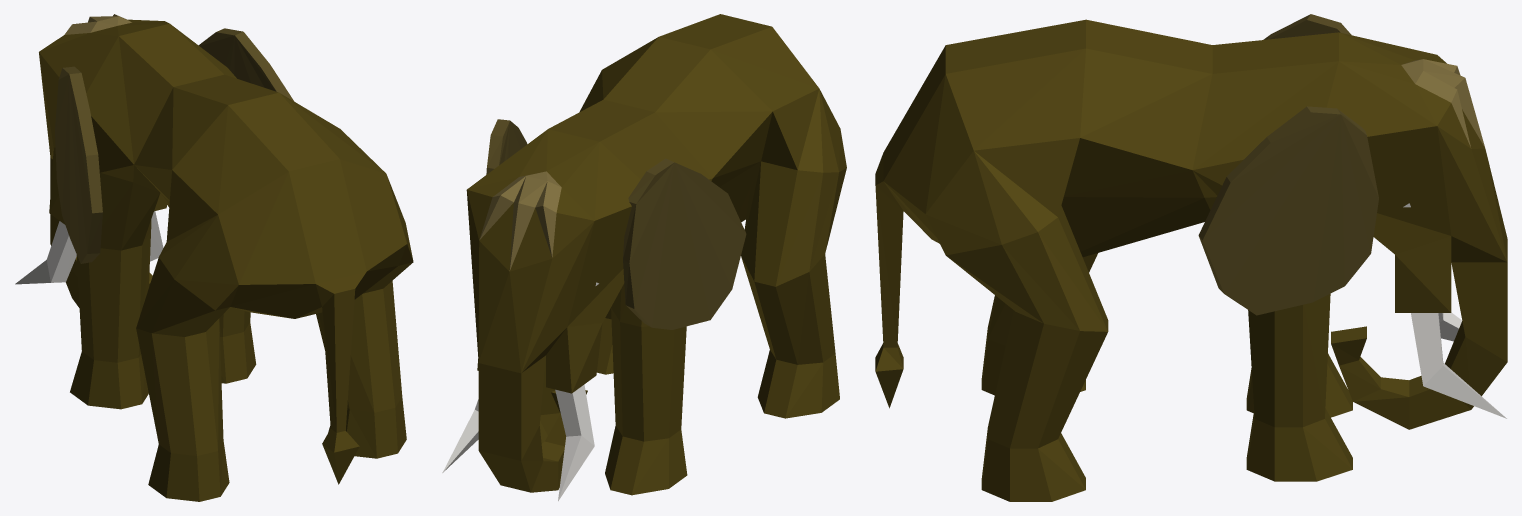
File: npc_world_mammoth_0.obj
3 renders of one model, left to right at view 1: azimuth 30°, elevation 25°; view 2: azimuth 150°, elevation 25°; view 3: azimuth 270°, elevation 25°, orthographic. The views are drawn at different scales.
Size of the model in its own units: 1.25 by 1.72 by 2.46.
